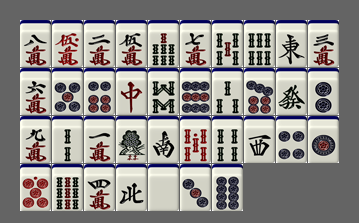0m: (52, 20, 83, 67)
0p: (20, 164, 51, 211)
0s: (180, 116, 211, 163)
1m: (84, 116, 115, 163)
1p: (308, 116, 339, 163)
1s: (116, 116, 147, 163)
1z: (276, 20, 307, 67)
2m: (84, 20, 115, 67)
2p: (308, 68, 339, 115)
2s: (52, 116, 83, 163)
2z: (148, 116, 179, 163)
3m: (308, 20, 339, 67)
3p: (180, 164, 211, 211)
3s: (212, 68, 243, 115)
3z: (244, 116, 275, 163)
4m: (84, 164, 115, 211)
4p: (276, 116, 307, 163)
4s: (212, 116, 243, 163)
4z: (116, 164, 147, 211)
5m: (116, 20, 147, 67)
5p: (52, 68, 83, 115)
5s: (212, 20, 243, 67)
5z: (148, 164, 179, 211)
6m: (20, 68, 51, 115)
6p: (84, 68, 115, 115)
6s: (244, 20, 275, 67)
6z: (276, 68, 307, 115)
7m: (180, 20, 211, 67)
7p: (244, 68, 275, 115)
7s: (148, 20, 179, 67)
7z: (116, 68, 147, 115)
8m: (20, 20, 51, 67)
8p: (212, 164, 243, 211)
8s: (148, 68, 179, 115)
9m: (20, 116, 51, 163)
9p: (180, 68, 211, 115)
9s: (52, 164, 83, 211)
